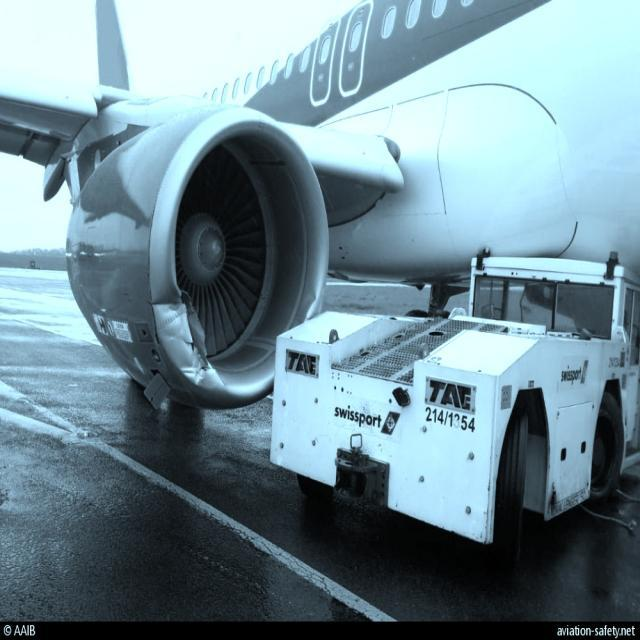crack: (182, 293, 210, 376)
dent: (294, 285, 326, 334), (154, 292, 182, 316), (182, 355, 202, 388)
